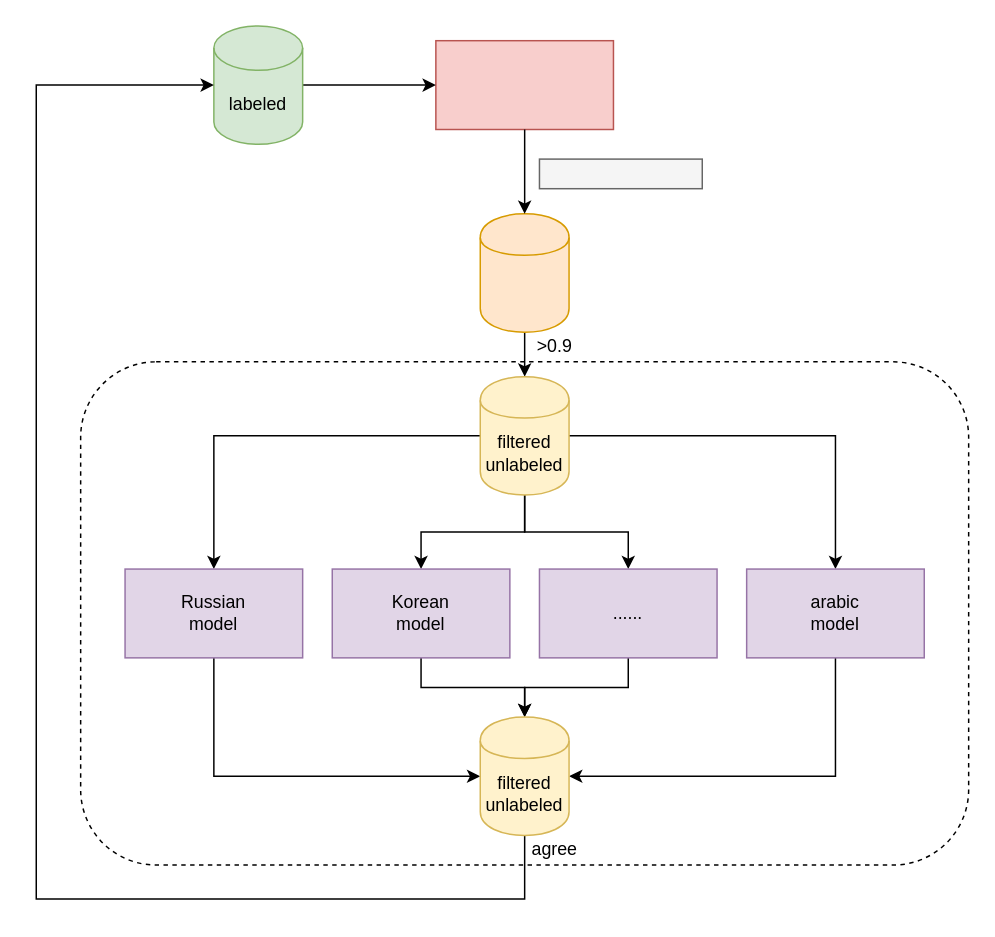
Image size: 995x937. Some labels were removed from this diagram. The centre of each missing label's shape, as x and y in pixels:
"distillation(or not)" belongs at [620,173].
"teacher model" belongs at [523,84].
"unlabeled" belongs at [524,272].
